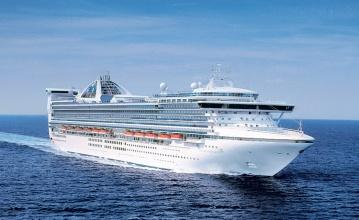youlun: (32, 66, 317, 180)
